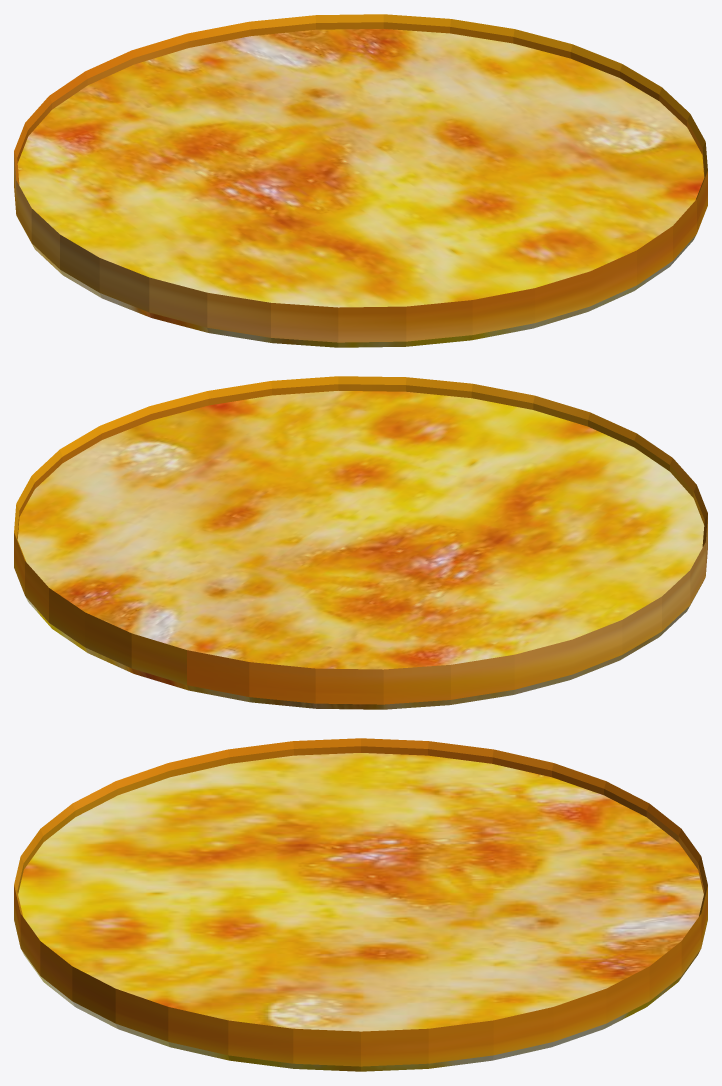
The model's file is zaza.glb.
3 views of the same model, one above another, from view 1: azimuth 30°, elevation 25°; view 2: azimuth 150°, elevation 25°; view 3: azimuth 270°, elevation 25° (orthographic).
Visible parts, largest first — view 1: zaza; view 2: zaza; view 3: zaza.
Boxes of the visible parts, bbox=[...] form: zaza: bbox=[14, 14, 707, 347]; zaza: bbox=[14, 376, 707, 709]; zaza: bbox=[14, 738, 707, 1071].
Size of the model in its own units: 256 by 16.95 by 256.
1 material, 1 textured.
